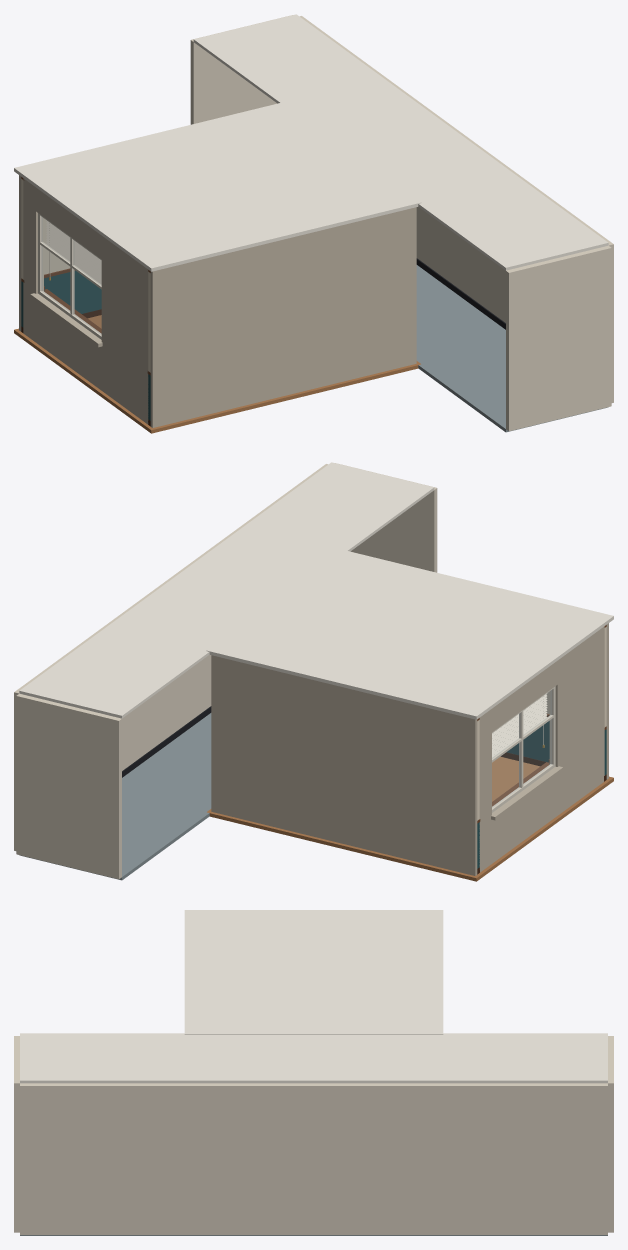
Rendered from RmOfficeShell.fbx.
The picture shows the model from 3 angles, top to bottom: view 1: azimuth 30°, elevation 25°; view 2: azimuth 150°, elevation 25°; view 3: azimuth 270°, elevation 25°; orthographic projection. The views are drawn at different scales.
Visible parts, largest first — view 1: Corridor, Walls, Floor, WindowGlass, WindowFrame, Blinds; view 2: Corridor, Walls, Floor, WindowGlass, WindowFrame, Blinds; view 3: Corridor, Floor.
Boxes of the visible parts, x1=… form: Corridor: x1=190, y1=14, x2=613, y2=432; Walls: x1=19, y1=175, x2=416, y2=427; Floor: x1=14, y1=102, x2=421, y2=433; WindowGlass: x1=42, y1=217, x2=101, y2=333; WindowFrame: x1=30, y1=213, x2=102, y2=347; Blinds: x1=46, y1=220, x2=101, y2=284; Corridor: x1=14, y1=462, x2=437, y2=880; Walls: x1=211, y1=623, x2=608, y2=875; Floor: x1=206, y1=550, x2=613, y2=881; WindowGlass: x1=492, y1=690, x2=551, y2=807; WindowFrame: x1=491, y1=686, x2=563, y2=820; Blinds: x1=492, y1=693, x2=547, y2=757; Corridor: x1=14, y1=1033, x2=613, y2=1235; Floor: x1=184, y1=910, x2=443, y2=1034.
Size of the model in its own units: 6.96 by 2.92 by 10.2.
